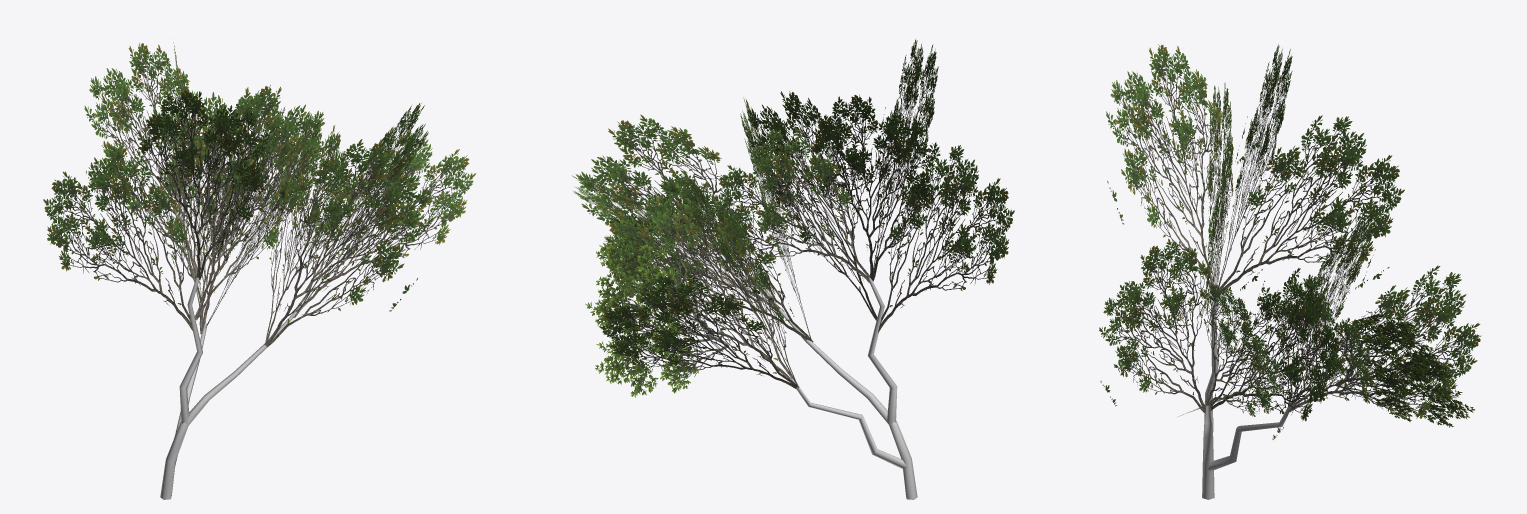
File: tree8.FBX
3 views of the same model, side by side, from view 1: azimuth 30°, elevation 25°; view 2: azimuth 150°, elevation 25°; view 3: azimuth 270°, elevation 25° (orthographic). The views are drawn at different scales.
Visible parts, largest first — view 1: tree15; view 2: tree15; view 3: tree15.
Boxes of the visible parts, left/top/right/bottom form: tree15: left=43, top=42, right=476, bottom=499; tree15: left=571, top=39, right=1014, bottom=499; tree15: left=1099, top=44, right=1481, bottom=499.
Size of the model in its own units: 120 by 106 by 90.66.
